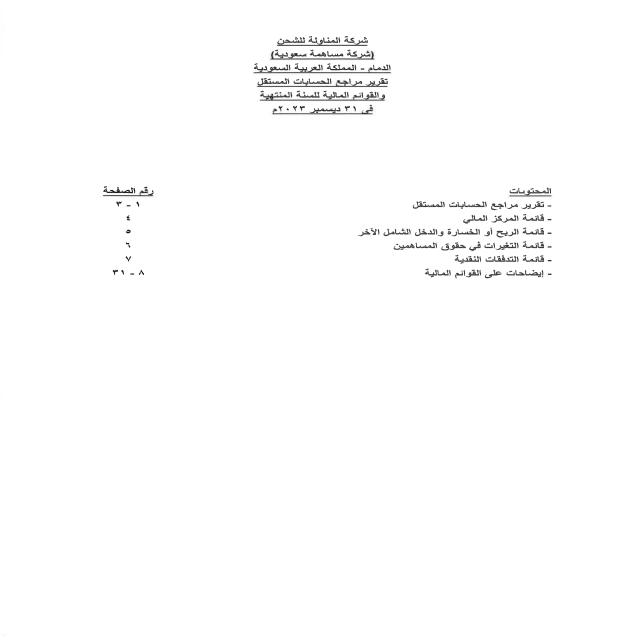other: (56, 181, 585, 293)
